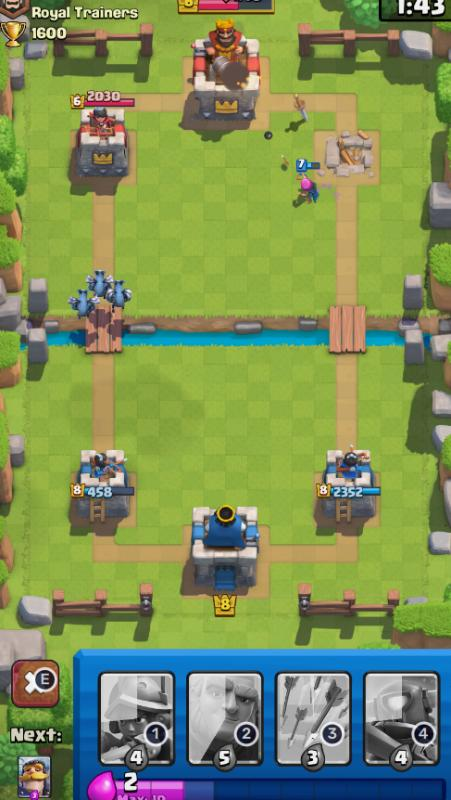archere: (301, 160, 319, 208)
gargouille: (93, 270, 140, 317), (71, 281, 103, 330), (78, 259, 116, 294)
